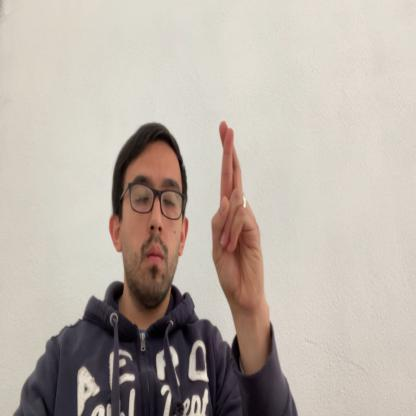R: (211, 123, 262, 309)
